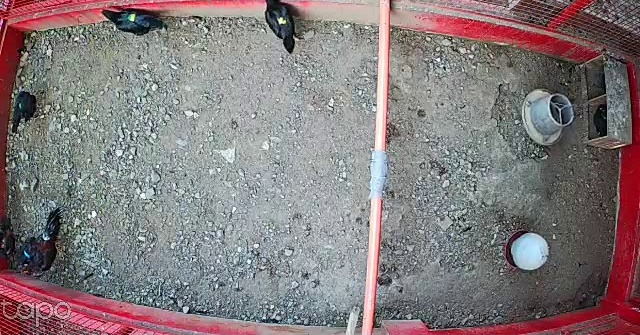Chicken: (259, 0, 309, 53), (98, 5, 169, 38), (9, 89, 40, 135)
Rooster: (19, 204, 61, 285)
Saddle_Color_Yellow: (278, 15, 287, 25)
Saddle_Color_YellowGreen: (127, 13, 137, 23)
